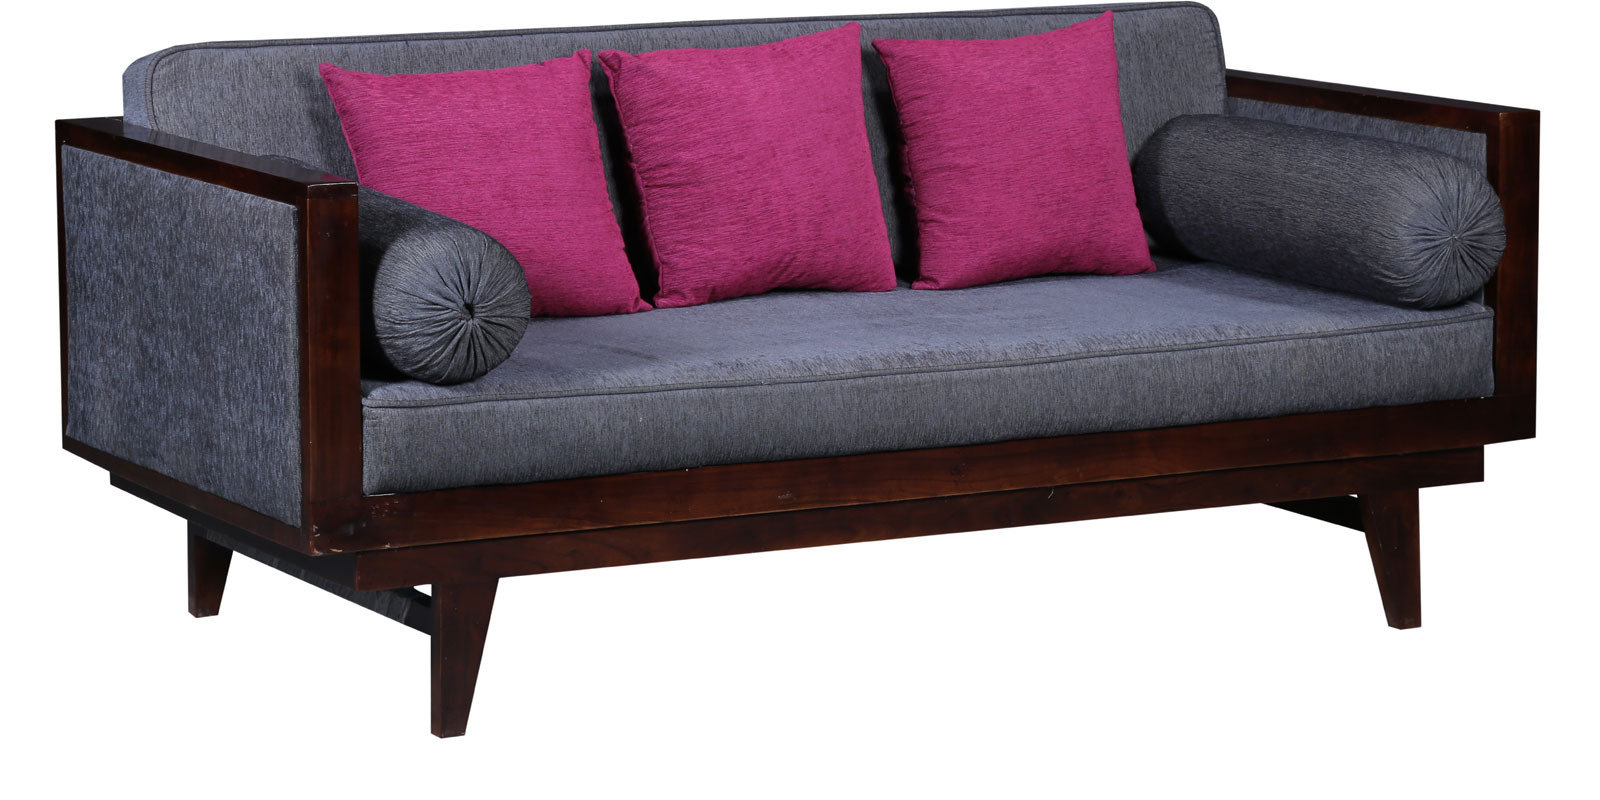Dillon Three Seater Sofa in Passion Mahogany Finish by Woodsworth: (49, 1, 1550, 753)
